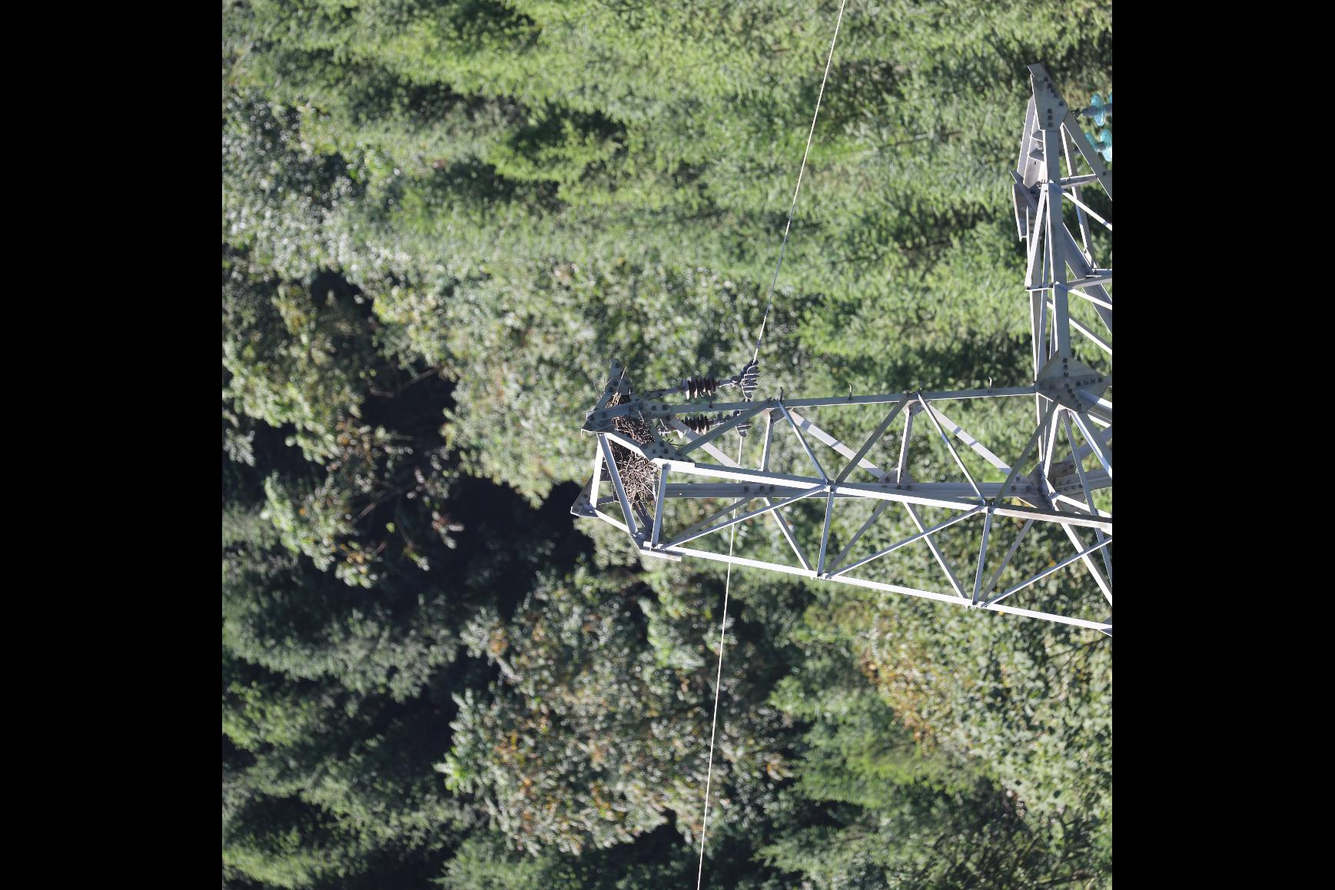nest: (605, 393, 661, 508)
